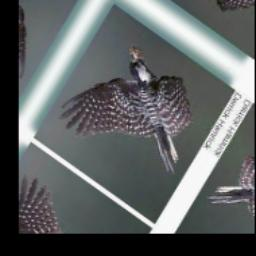Woodpecker: (46, 19, 219, 200)
